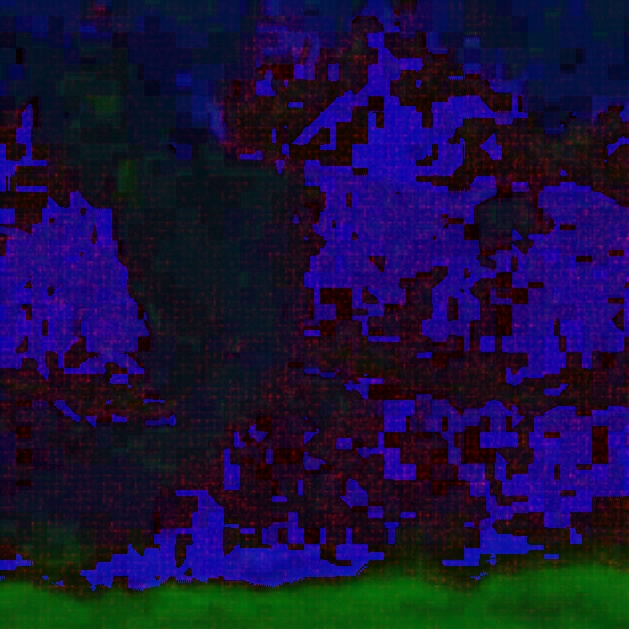rip_current: (17, 87, 355, 516)
